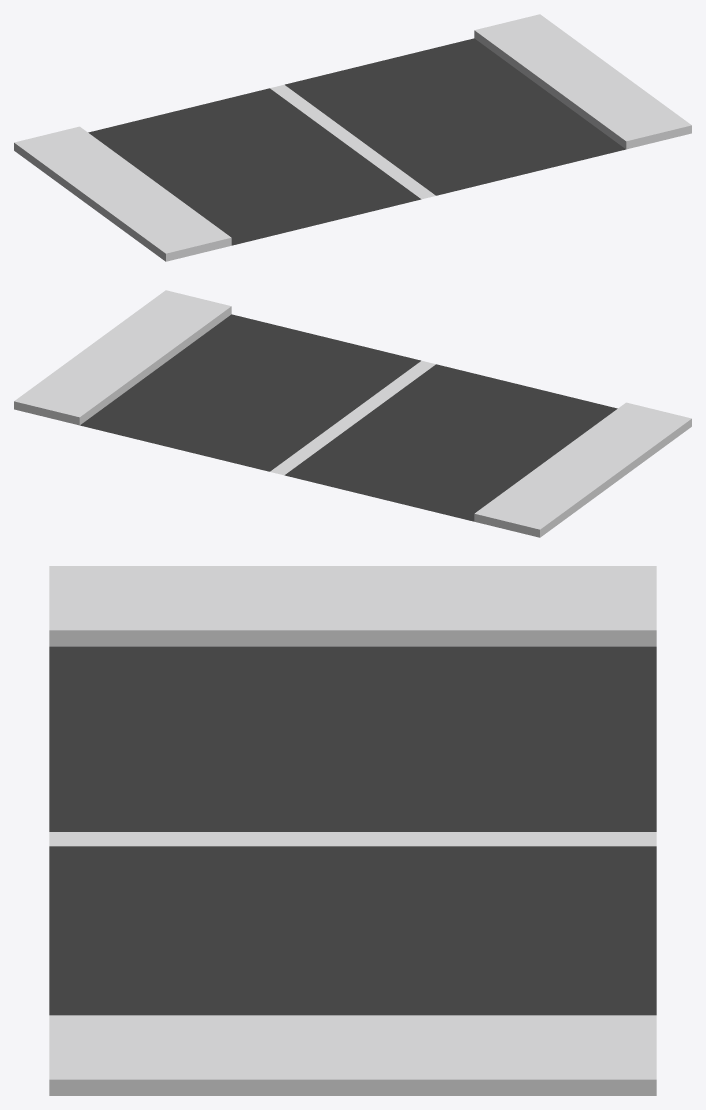
File: two-lane-linear-half.fbx
The picture shows the model from 3 angles, top to bottom: view 1: azimuth 30°, elevation 25°; view 2: azimuth 150°, elevation 25°; view 3: azimuth 270°, elevation 25°; orthographic projection. The views are drawn at different scales.
Parts seen in each view (by area): view 1: two-lane-linear-road-piece; view 2: two-lane-linear-road-piece; view 3: two-lane-linear-road-piece.
Part boxes in pixels (x1,y1,x2,y2): two-lane-linear-road-piece: [14, 14, 691, 261]; two-lane-linear-road-piece: [14, 290, 691, 537]; two-lane-linear-road-piece: [49, 566, 656, 1095].
Bounding box in the file's own units: 11.2 × 0.165 × 5.6.
